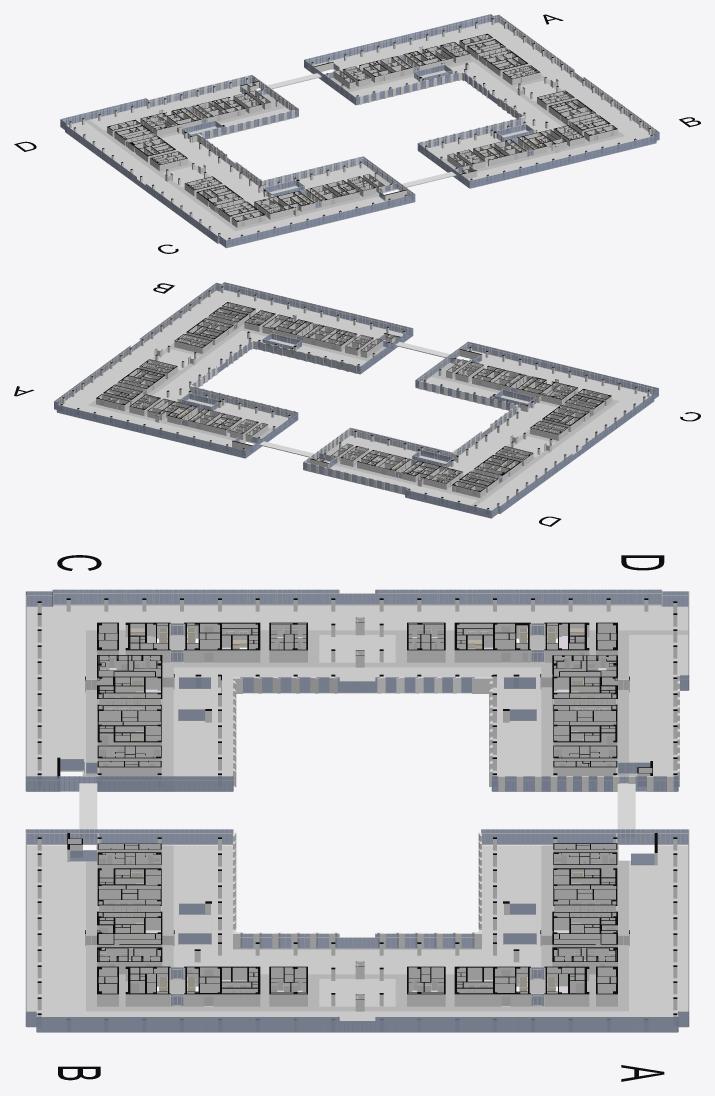
3 views of the same model, one above another, from view 1: azimuth 30°, elevation 25°; view 2: azimuth 150°, elevation 25°; view 3: azimuth 270°, elevation 25° (orthographic). The views are drawn at different scales.
Visible parts, largest first — view 1: 3F-Floor, 3F-Wall, 3F-Window-out, 3F-Wall-out, 3F-Pillar, 3F-Window, 3F-Door, 3F-Elevator, 3F-toiletdoor, 3F-SkybridgeRoof, 3F-GlassDoor; view 2: 3F-Floor, 3F-Wall, 3F-Window-out, 3F-Wall-out, 3F-Pillar, 3F-Window, 3F-Door, 3F-Elevator, 3F-toiletdoor, 3F-SkybridgeRoof; view 3: 3F-Floor, 3F-Wall, 3F-Window-out, 3F-Pillar, 3F-Wall-out, 3F-Window, 3F-Door, 3F-Elevator, 3F-SkybridgeRoof, 3F-GlassDoor, 3F-toiletdoor, 3F-text.
Part boxes in pixels (left/top/right/bottom): 3F-Floor: left=67, top=22, right=657, bottom=248; 3F-Wall: left=107, top=33, right=617, bottom=227; 3F-Window-out: left=60, top=14, right=659, bottom=247; 3F-Wall-out: left=148, top=71, right=525, bottom=187; 3F-Pillar: left=69, top=18, right=653, bottom=243; 3F-Window: left=182, top=63, right=534, bottom=200; 3F-Door: left=111, top=36, right=613, bottom=226; 3F-Elevator: left=127, top=47, right=597, bottom=210; 3F-toiletdoor: left=149, top=45, right=576, bottom=211; 3F-SkybridgeRoof: left=267, top=73, right=456, bottom=187; 3F-GlassDoor: left=126, top=47, right=598, bottom=213; 3F-Floor: left=55, top=290, right=651, bottom=518; 3F-Wall: left=96, top=302, right=611, bottom=498; 3F-Window-out: left=54, top=282, right=658, bottom=518; 3F-Wall-out: left=189, top=340, right=518, bottom=493; 3F-Pillar: left=60, top=286, right=649, bottom=513; 3F-Window: left=180, top=333, right=535, bottom=468; 3F-Door: left=100, top=304, right=607, bottom=496; 3F-Elevator: left=116, top=315, right=591, bottom=480; 3F-toiletdoor: left=137, top=313, right=569, bottom=481; 3F-SkybridgeRoof: left=259, top=341, right=452, bottom=457; 3F-Floor: left=26, top=605, right=688, bottom=1032; 3F-Wall: left=57, top=617, right=657, bottom=1011; 3F-Window-out: left=25, top=589, right=689, bottom=1032; 3F-Pillar: left=37, top=598, right=677, bottom=1030; 3F-Wall-out: left=233, top=675, right=679, bottom=949; 3F-Window: left=60, top=677, right=654, bottom=944; 3F-Door: left=86, top=620, right=628, bottom=1005; 3F-Elevator: left=104, top=628, right=610, bottom=991; 3F-SkybridgeRoof: left=79, top=783, right=635, bottom=837; 3F-GlassDoor: left=97, top=623, right=617, bottom=1006; 3F-toiletdoor: left=99, top=626, right=615, bottom=991; 3F-text: left=57, top=555, right=664, bottom=1081.
Size of the model in its own units: 280 by 5.7 by 149.
